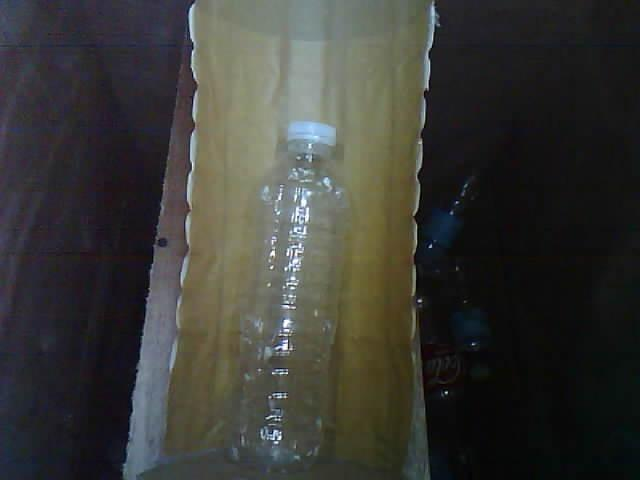small_bottle: (212, 112, 359, 480)
